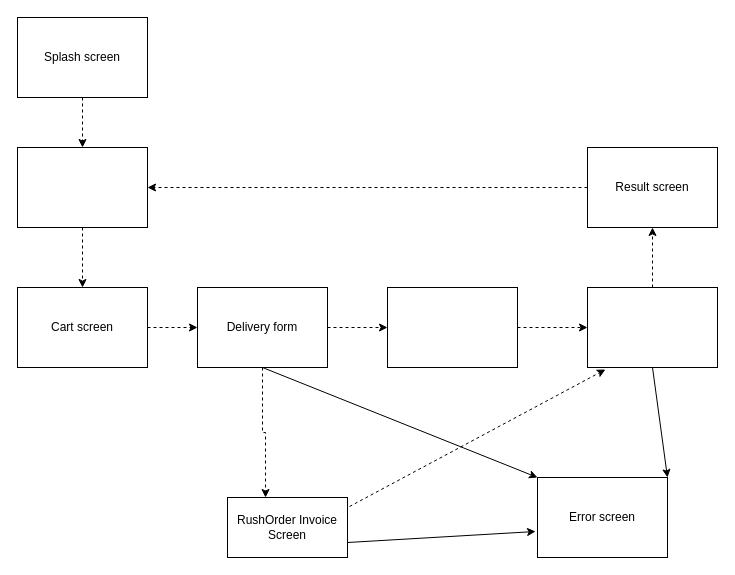
Some shapes in this 735 by 575 pixel diagram are drawn without their labels. Each missing label, with the centre of its shape:
"Home screen" belongs at (x=82, y=187).
"Invoice screen" belongs at (x=452, y=327).
"Payment screen" belongs at (x=652, y=327).
